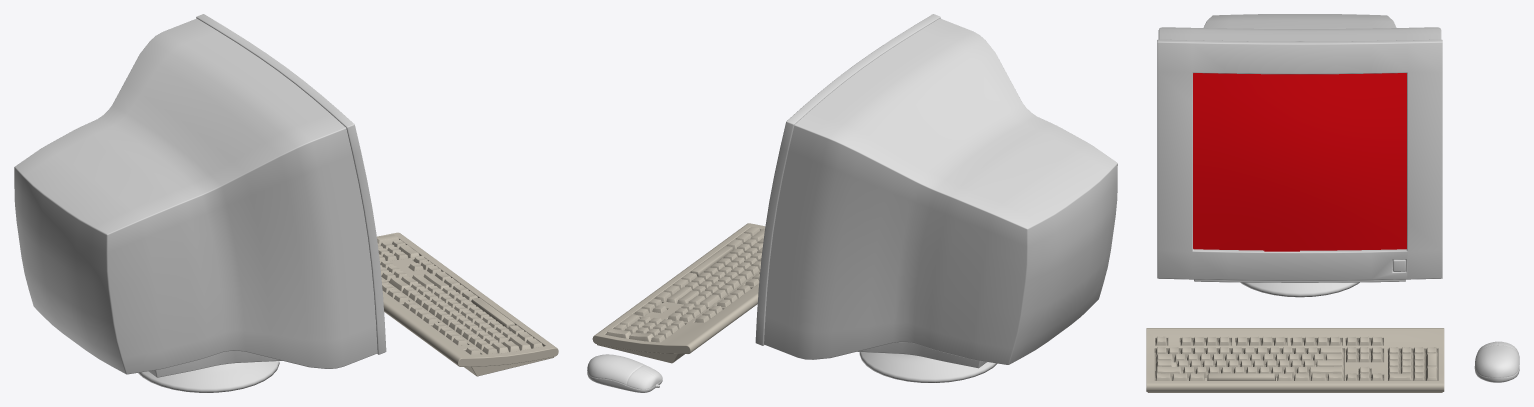
The picture shows the model from 3 angles, left to right: view 1: azimuth 30°, elevation 25°; view 2: azimuth 150°, elevation 25°; view 3: azimuth 270°, elevation 25°; orthographic projection. The views are drawn at different scales.
Visible parts, largest first — view 1: Keyboard; view 2: Keyboard; view 3: Keyboard, Keyboard.001.
Boxes of the visible parts, x1,y1,x2,y2 form: Keyboard: [14, 14, 558, 392]; Keyboard: [587, 14, 1117, 392]; Keyboard: [1146, 14, 1519, 392]; Keyboard.001: [1193, 73, 1406, 251].
Bounding box in the file's own units: 377 × 236 × 304.
